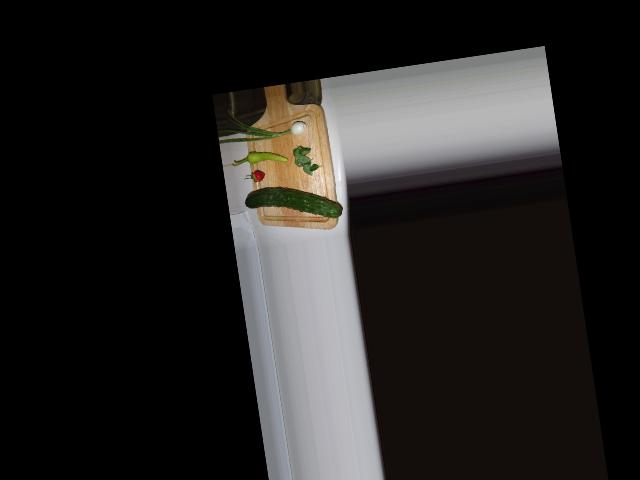cucumber: (244, 178, 343, 230)
